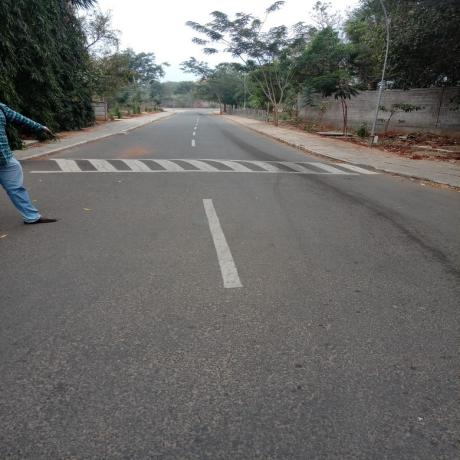Speed Bump: (23, 157, 382, 174)
